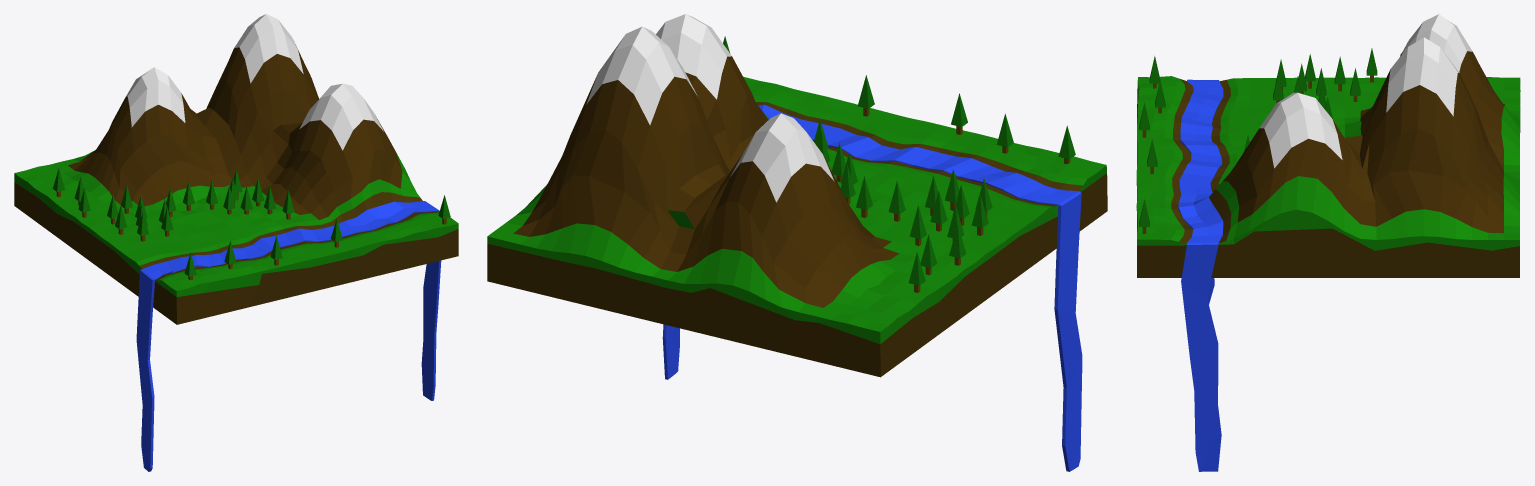
The model's file is mountain_landscape.glb.
The picture shows the model from 3 angles, left to right: view 1: azimuth 30°, elevation 25°; view 2: azimuth 150°, elevation 25°; view 3: azimuth 270°, elevation 25°; orthographic projection. The views are drawn at different scales.
Parts seen in each view (by area): view 1: Mountain, Grass, Ground, Watter, Snow, Trunk, Mud; view 2: Mountain, Grass, Ground, Watter, Snow, Trunk, Mud; view 3: Mountain, Grass, Ground, Watter, Snow, Trunk, Mud.
Boxes of the visible parts, x1,y1,x2,y2 form: Mountain: (68, 41, 402, 219); Grass: (14, 150, 458, 296); Ground: (14, 182, 458, 324); Watter: (136, 201, 441, 471); Snow: (126, 14, 383, 150); Trunk: (52, 168, 450, 280); Mud: (139, 192, 439, 280); Mountain: (513, 56, 899, 307); Grass: (487, 77, 1106, 344); Ground: (487, 173, 1107, 377); Watter: (662, 104, 1082, 471); Snow: (586, 14, 834, 202); Trunk: (723, 36, 1075, 292); Mud: (755, 102, 1082, 206); Mountain: (1223, 42, 1505, 233); Grass: (1136, 76, 1520, 250); Ground: (1137, 88, 1520, 277); Watter: (1178, 79, 1223, 471); Snow: (1259, 14, 1472, 168); Trunk: (1139, 48, 1401, 233); Mud: (1171, 79, 1231, 243).
Bounding box in the file's own units: 40.89 × 45.32 × 40.12.
